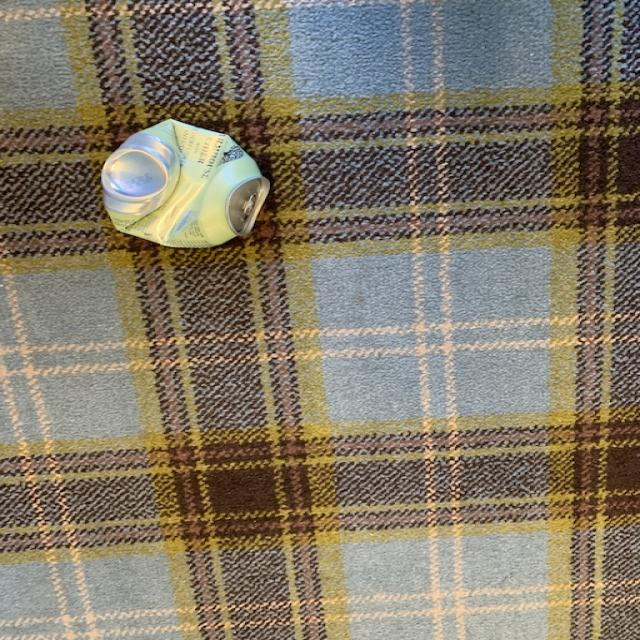litter: (99, 119, 272, 250)
